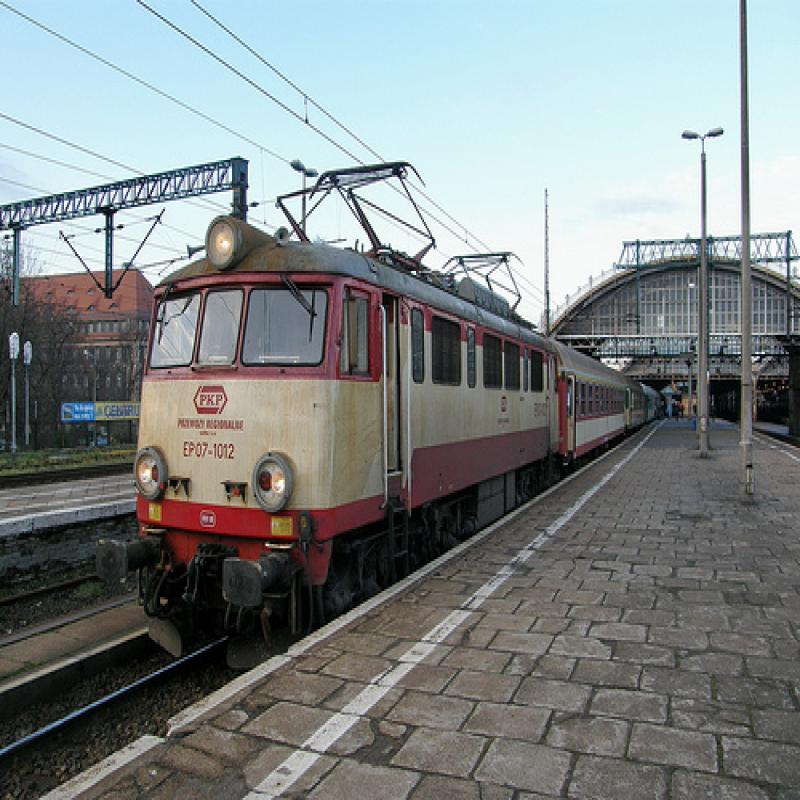train: (135, 219, 670, 660)
